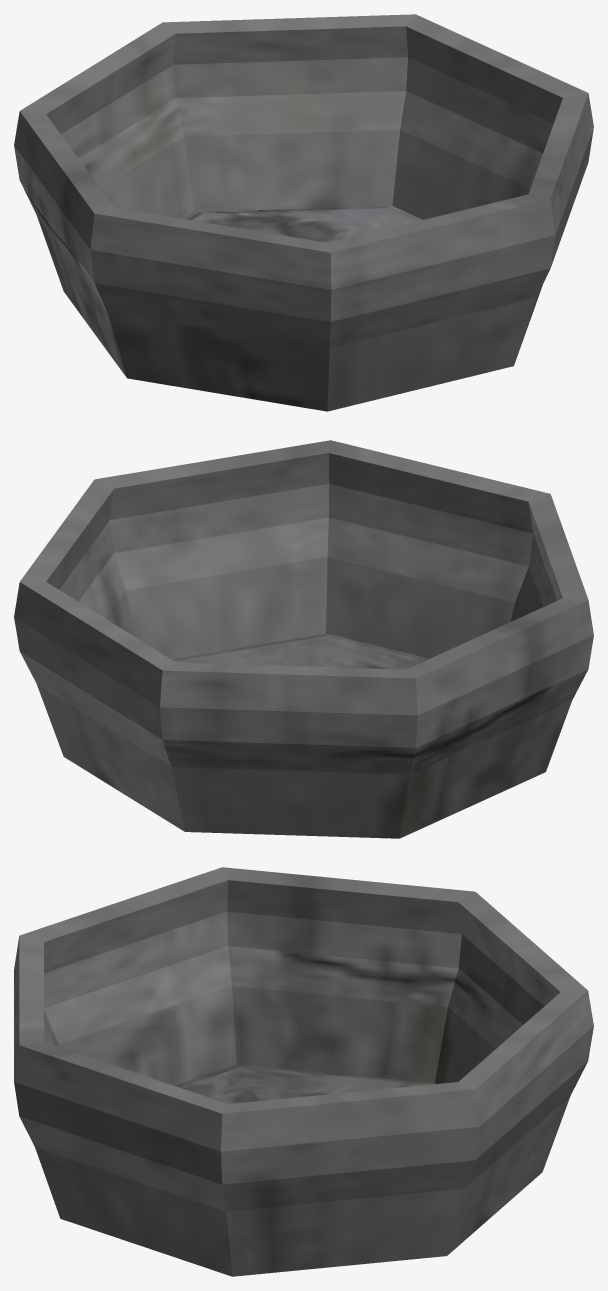
The model's file is bowlTest.fbx.
3 views of the same model, one above another, from view 1: azimuth 30°, elevation 25°; view 2: azimuth 150°, elevation 25°; view 3: azimuth 270°, elevation 25° (orthographic). The views are drawn at different scales.
Parts seen in each view (by area): view 1: Sphere.001; view 2: Sphere.001; view 3: Sphere.001.
Boxes of the visible parts, x1,y1,x2,y2 form: Sphere.001: [14, 14, 593, 411]; Sphere.001: [14, 440, 593, 838]; Sphere.001: [14, 867, 593, 1276].
Bounding box in the file's own units: 195 × 65.73 × 190.
1 material, 1 textured.
